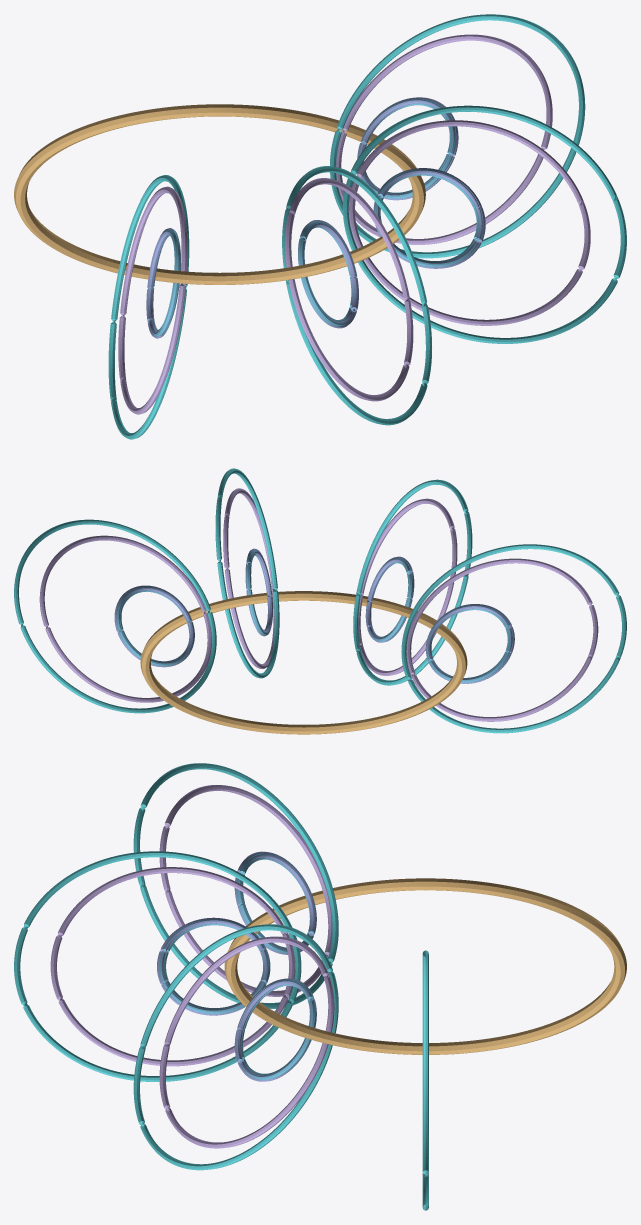
The model's file is demo_fieldlines.glb.
The picture shows the model from 3 angles, top to bottom: view 1: azimuth 30°, elevation 25°; view 2: azimuth 150°, elevation 25°; view 3: azimuth 270°, elevation 25°; orthographic projection. The views are drawn at different scales.
Visible parts, largest first — view 1: reference_conductor, field_seed0_azimuth1, field_seed0_azimuth0, field_seed3_azimuth1, field_seed0_azimuth2, field_seed3_azimuth0, field_seed3_azimuth2, field_seed3_azimuth3, field_seed0_azimuth3, field_seed2_azimuth1, field_seed1_azimuth1, field_seed2_azimuth0 (+5 smaller); view 2: reference_conductor, field_seed0_azimuth3, field_seed0_azimuth0, field_seed3_azimuth3, field_seed3_azimuth0, field_seed0_azimuth2, field_seed0_azimuth1, field_seed3_azimuth2, field_seed3_azimuth1, field_seed2_azimuth3, field_seed2_azimuth0, field_seed1_azimuth3 (+5 smaller); view 3: reference_conductor, field_seed0_azimuth2, field_seed0_azimuth1, field_seed3_azimuth2, field_seed0_azimuth3, field_seed3_azimuth1, field_seed3_azimuth3, field_seed0_azimuth0, field_seed2_azimuth2, field_seed1_azimuth2, field_seed2_azimuth1, field_seed1_azimuth1 (+2 smaller).
Boxes of the visible parts, x1=… form: reference_conductor: x1=14, y1=104, x2=425, y2=284; field_seed0_azimuth1: x1=343, y1=105, x2=626, y2=343; field_seed0_azimuth0: x1=330, y1=14, x2=585, y2=258; field_seed3_azimuth1: x1=348, y1=120, x2=590, y2=325; field_seed0_azimuth2: x1=282, y1=166, x2=431, y2=425; field_seed3_azimuth0: x1=336, y1=34, x2=552, y2=244; field_seed3_azimuth2: x1=285, y1=178, x2=413, y2=401; field_seed3_azimuth3: x1=118, y1=186, x2=187, y2=414; field_seed0_azimuth3: x1=108, y1=175, x2=189, y2=439; field_seed2_azimuth1: x1=373, y1=168, x2=485, y2=268; field_seed1_azimuth1: x1=374, y1=169, x2=482, y2=267; field_seed2_azimuth0: x1=357, y1=97, x2=458, y2=200; reference_conductor: x1=140, y1=591, x2=467, y2=734; field_seed0_azimuth3: x1=401, y1=544, x2=626, y2=733; field_seed0_azimuth0: x1=14, y1=519, x2=216, y2=713; field_seed3_azimuth3: x1=406, y1=558, x2=598, y2=721; field_seed3_azimuth0: x1=39, y1=535, x2=211, y2=702; field_seed0_azimuth2: x1=353, y1=479, x2=472, y2=685; field_seed0_azimuth1: x1=215, y1=468, x2=279, y2=678; field_seed3_azimuth2: x1=358, y1=498, x2=457, y2=675; field_seed3_azimuth1: x1=223, y1=488, x2=274, y2=668; field_seed2_azimuth3: x1=425, y1=604, x2=514, y2=683; field_seed2_azimuth0: x1=114, y1=585, x2=194, y2=667; field_seed1_azimuth3: x1=426, y1=605, x2=512, y2=682; reference_conductor: x1=224, y1=878, x2=626, y2=1054; field_seed0_azimuth2: x1=14, y1=851, x2=301, y2=1081; field_seed0_azimuth1: x1=133, y1=924, x2=338, y2=1170; field_seed3_azimuth2: x1=50, y1=867, x2=295, y2=1066; field_seed0_azimuth3: x1=133, y1=763, x2=338, y2=1008; field_seed3_azimuth1: x1=159, y1=936, x2=334, y2=1148; field_seed3_azimuth3: x1=159, y1=785, x2=332, y2=996; field_seed0_azimuth0: x1=422, y1=950, x2=428, y2=1210; field_seed2_azimuth2: x1=157, y1=917, x2=270, y2=1015; field_seed1_azimuth2: x1=159, y1=919, x2=269, y2=1013; field_seed2_azimuth1: x1=234, y1=978, x2=316, y2=1081; field_seed1_azimuth1: x1=236, y1=979, x2=316, y2=1079.
Size of the model in its own units: 1.99 by 0.718 by 1.73.
